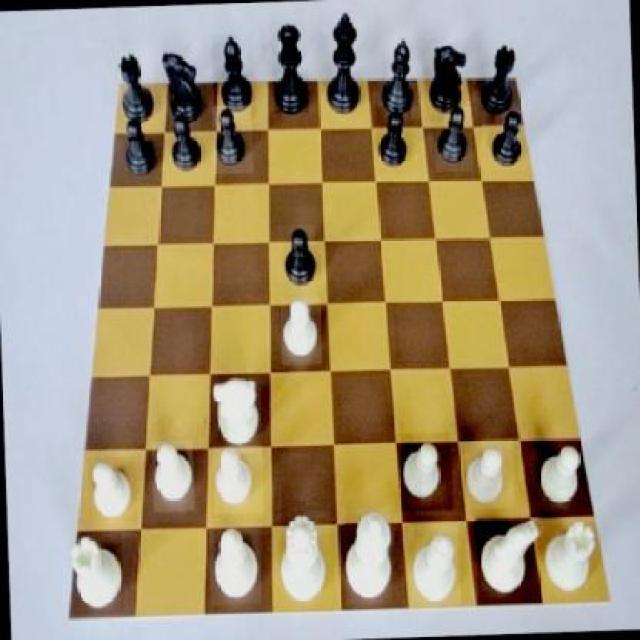bishop: (212, 34, 257, 121), (376, 32, 420, 120)
black-bishop: (317, 10, 364, 119)
black-king: (421, 38, 474, 122), (162, 41, 208, 126)
black-knight: (118, 111, 162, 181), (482, 111, 532, 171), (212, 104, 253, 174), (277, 225, 316, 298), (374, 104, 414, 174), (434, 108, 473, 172), (170, 109, 202, 179)
black-pawn: (271, 18, 308, 114)
black-queen: (472, 37, 520, 120), (117, 44, 155, 126)
black-rook: (408, 524, 460, 608), (208, 528, 260, 605)
white-bishop: (343, 508, 392, 605)
white-king: (476, 514, 542, 604), (210, 372, 262, 452)
white-knight: (397, 432, 454, 512), (532, 438, 588, 512), (213, 444, 264, 514), (464, 438, 514, 509), (88, 457, 138, 523), (152, 438, 195, 512), (280, 297, 323, 366)
white-pawn: (272, 511, 332, 610)
white-queen: (542, 520, 598, 609), (69, 530, 125, 614)
